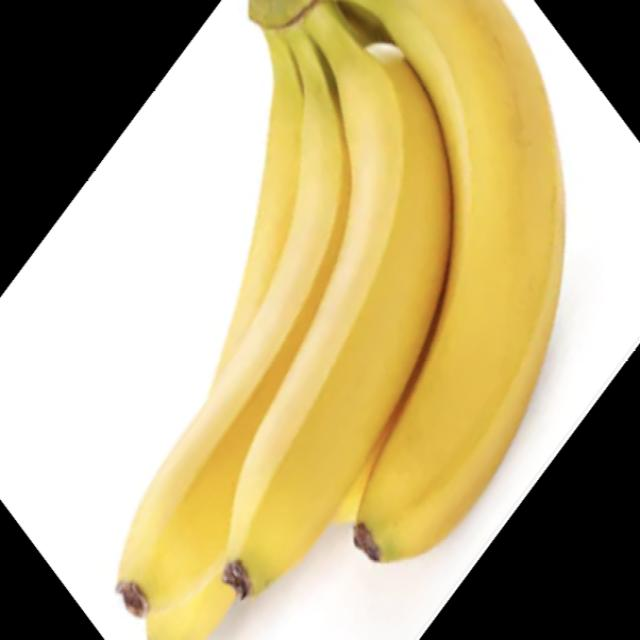god quality banana: (118, 0, 566, 639)
